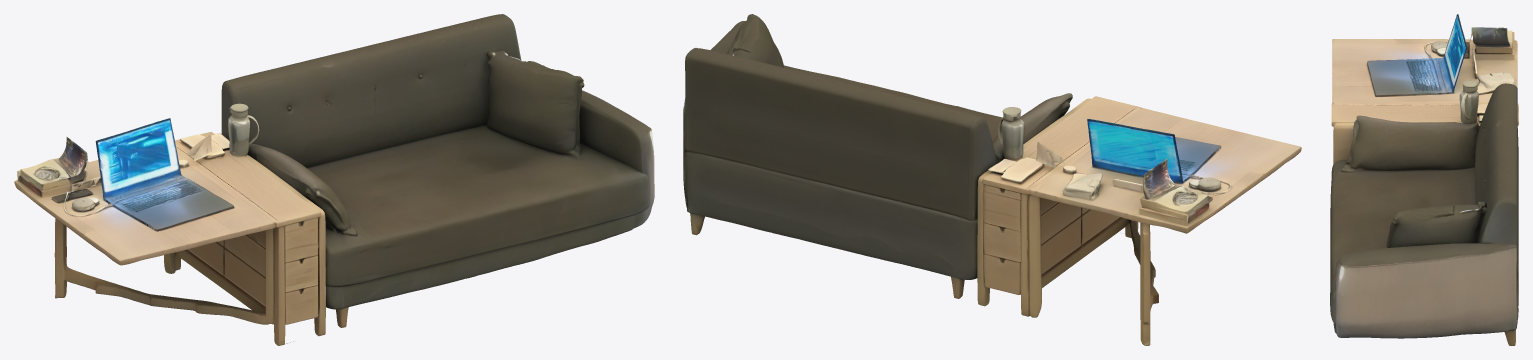
The model's file is rodin.glb.
3 renders of one model, left to right at view 1: azimuth 30°, elevation 25°; view 2: azimuth 150°, elevation 25°; view 3: azimuth 270°, elevation 25°, orthographic. The views are drawn at different scales.
Parts seen in each view (by area): view 1: model; view 2: model; view 3: model.
Boxes of the visible parts, bbox=[...] form: model: bbox=[14, 14, 654, 345]; model: bbox=[683, 14, 1301, 345]; model: bbox=[1330, 14, 1518, 345].
Bounding box in the file's own units: 1.9 × 0.603 × 0.6759.
Materials: 1 (1 with a texture image).
